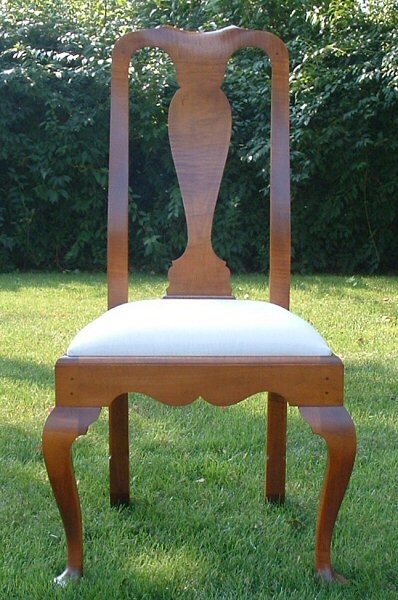obstacle: (43, 27, 355, 580)
